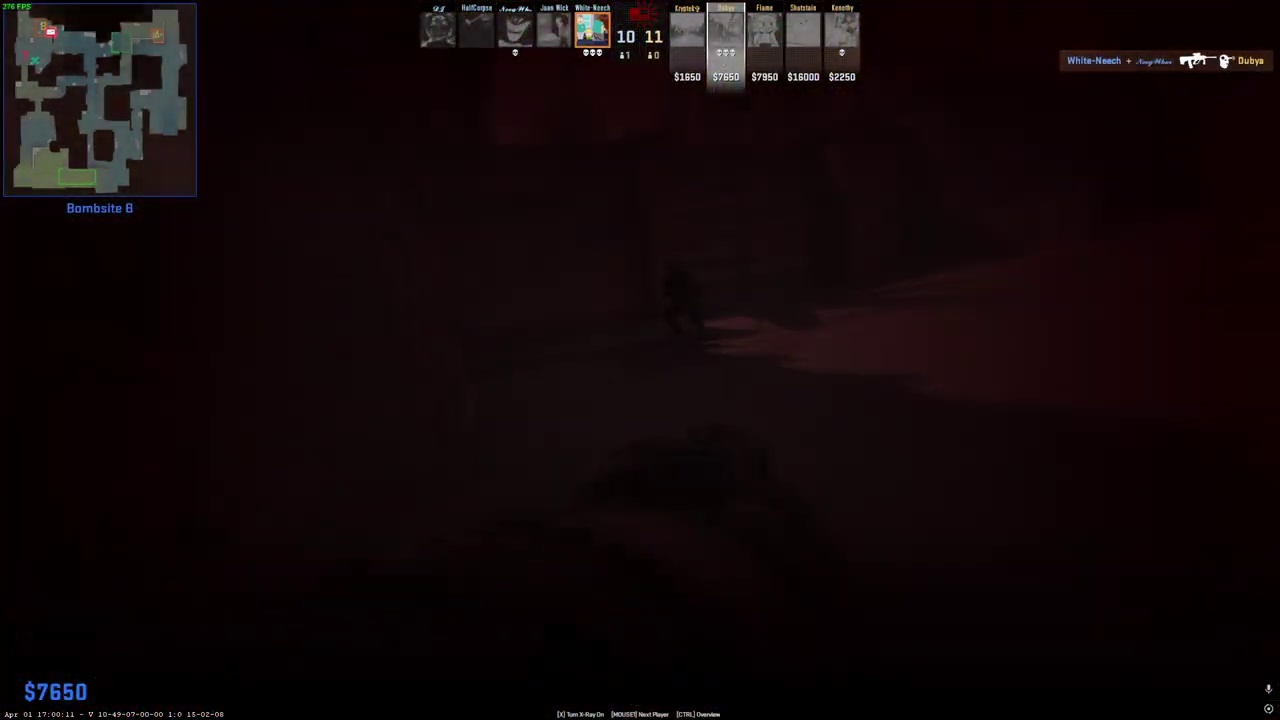CT: (658, 258, 706, 336)
